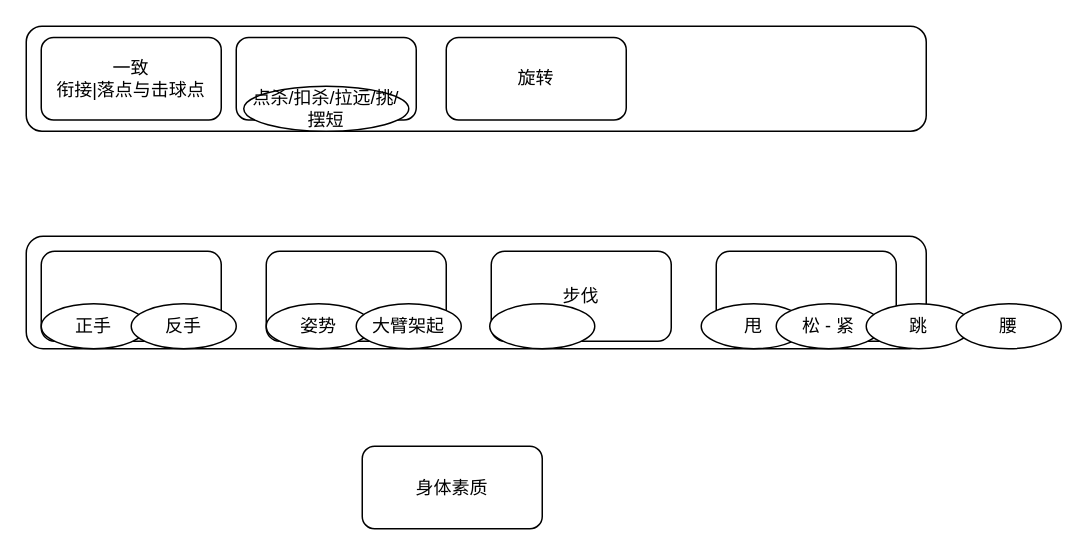
Some shapes in this 1088 by 555 pixel diagram are drawn without their labels. Here are the shapes that lost their labels. From the top down, the box of each, then its label:
(235, 36, 416, 120): 技术分类
(40, 250, 221, 341): 握拍
(265, 250, 446, 341): 准备
(715, 250, 896, 341): 发力
(488, 302, 595, 349): 回位
